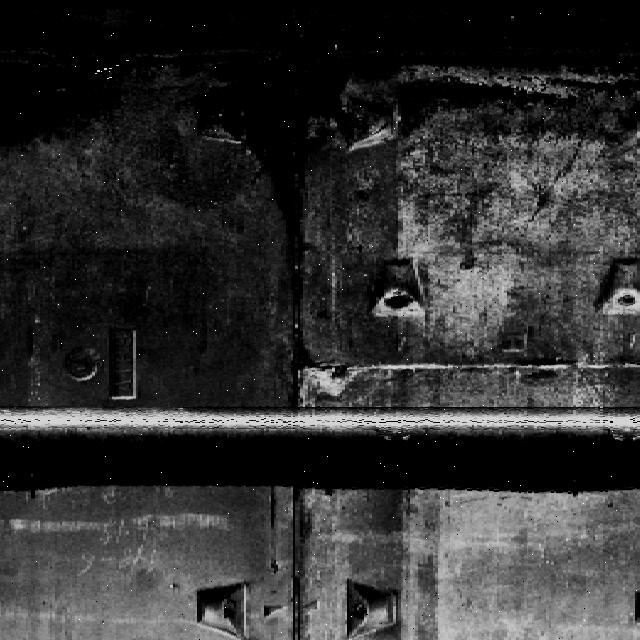leakage: (212, 37, 367, 293), (273, 330, 334, 407)
